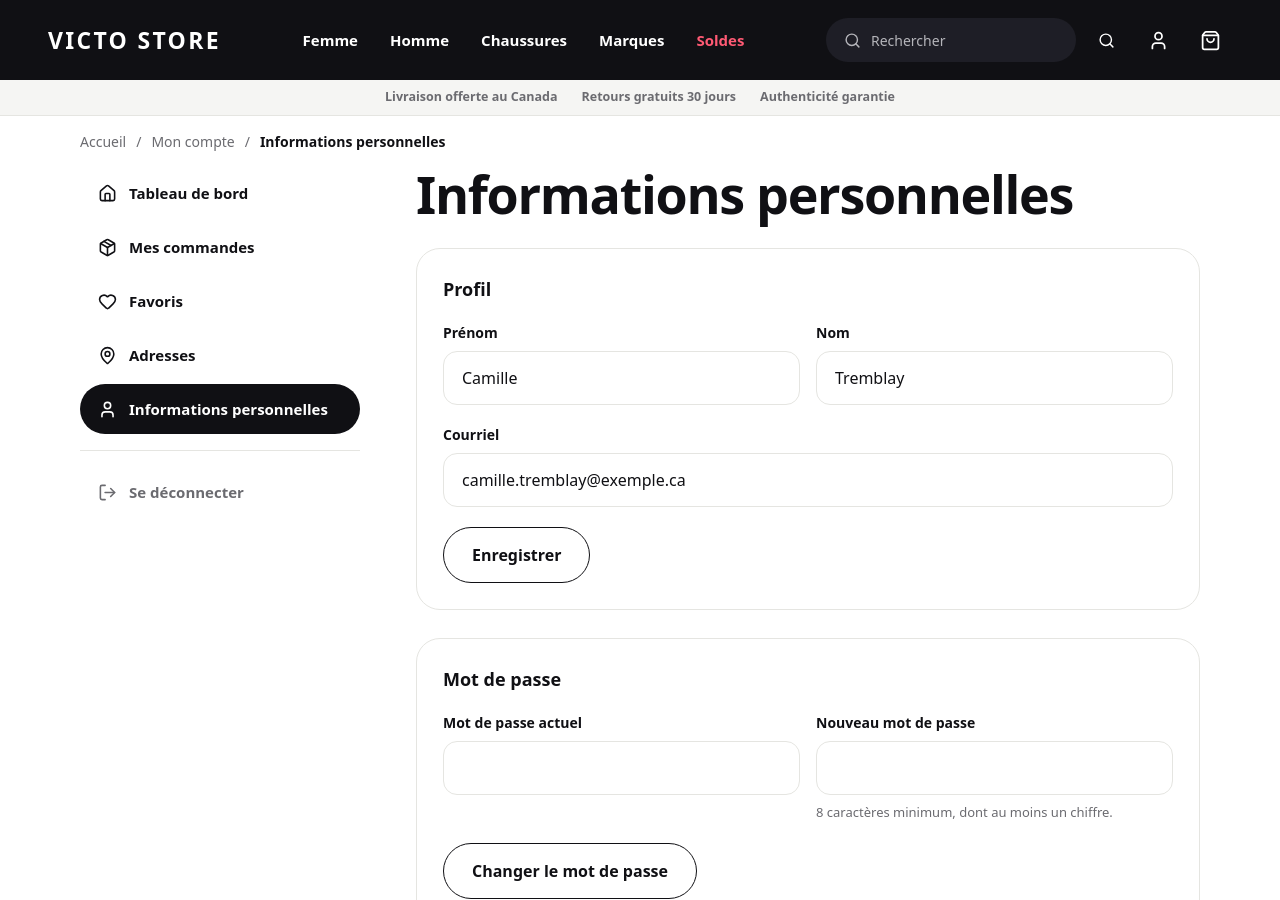
Test: informations personnelles — mot de passe › refuse un mot de passe actuel faux
Type "faux" into the password field labelled "Mot de passe actuel". click: [622, 768]
box: 443,741 -> 800,795
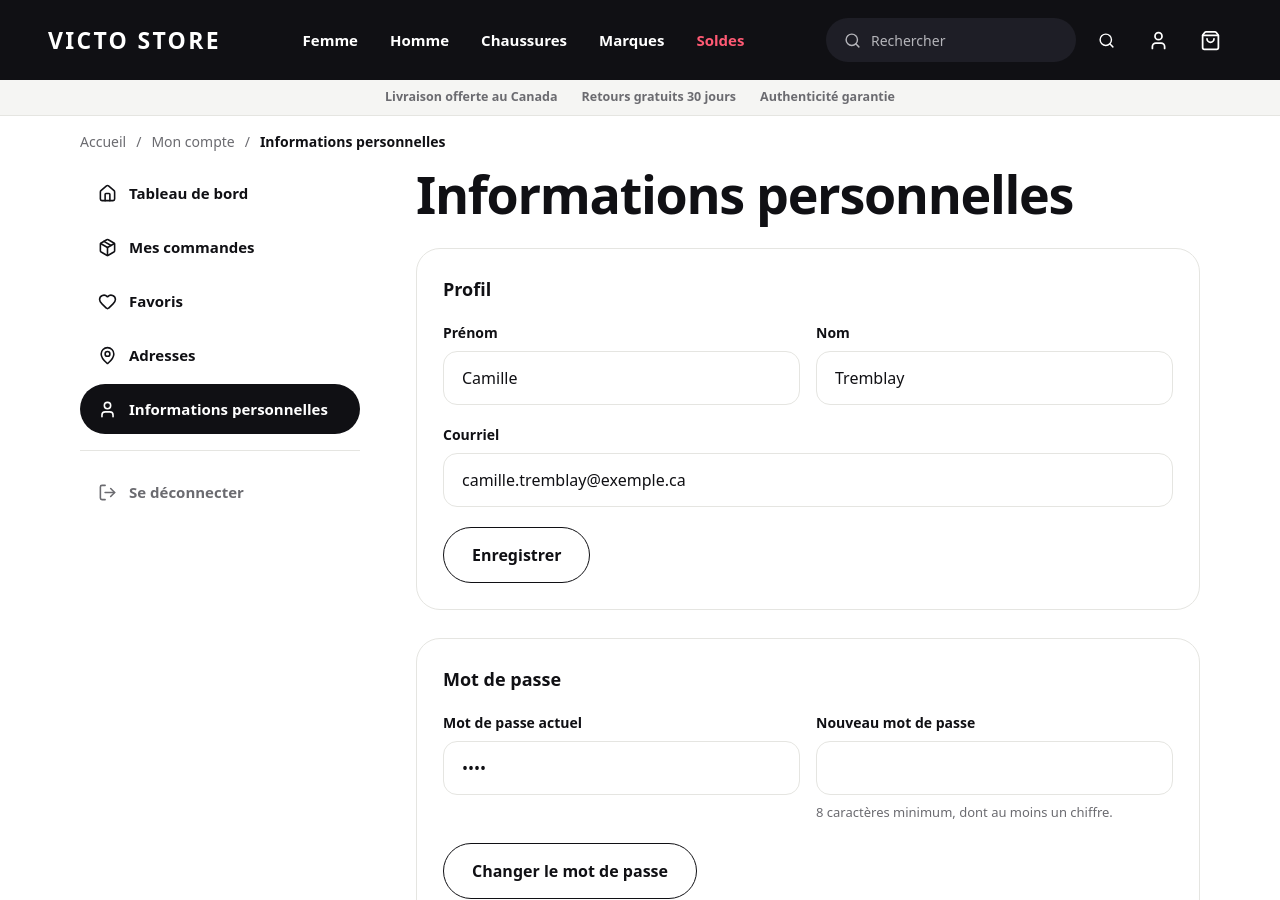
Type "nouveau2026" into the password field labelled "Nouveau mot de passe". click: [994, 768]
box: 816,741 -> 1173,795
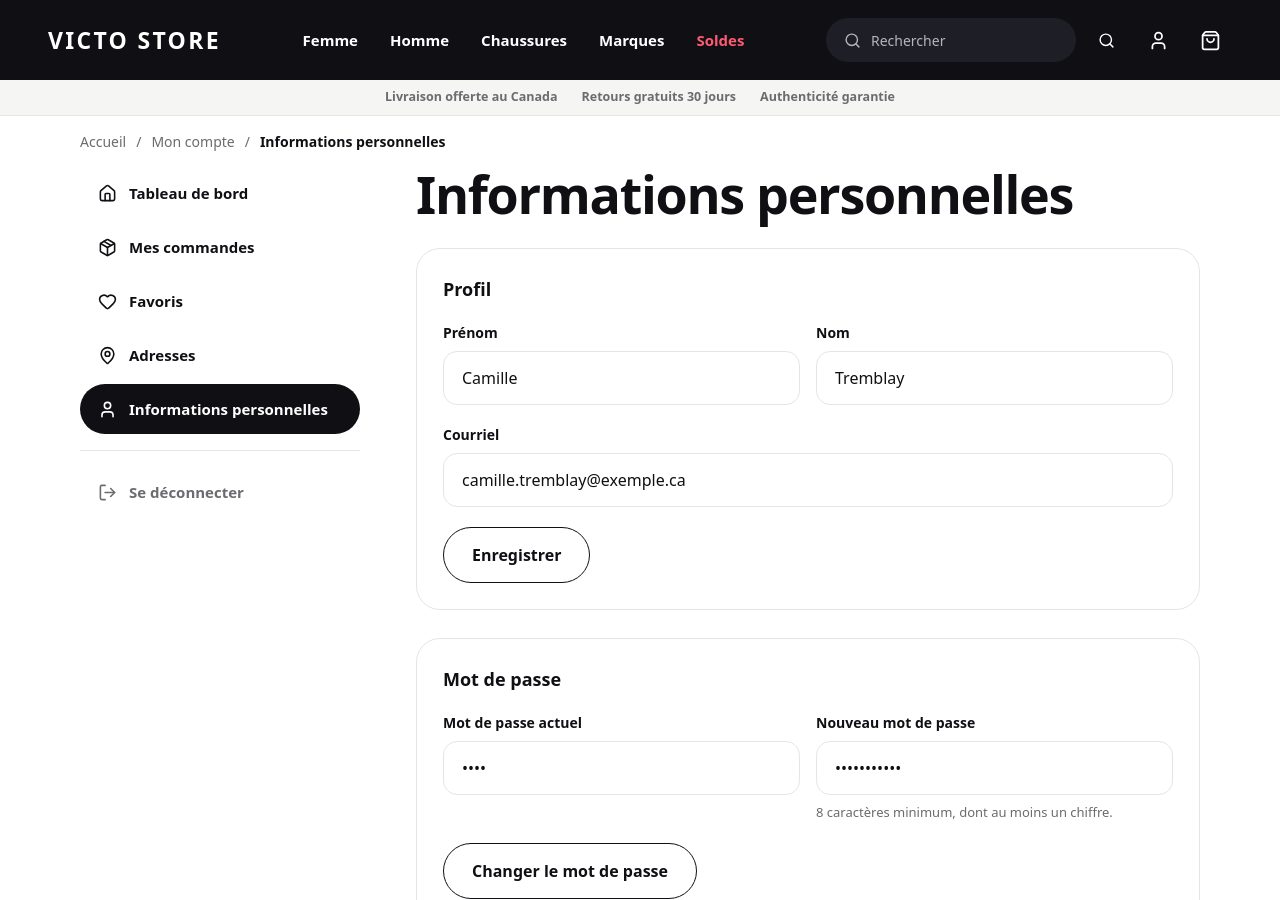
Click the button "Changer le mot de passe". click: [570, 870]
box: 443,842 -> 697,898
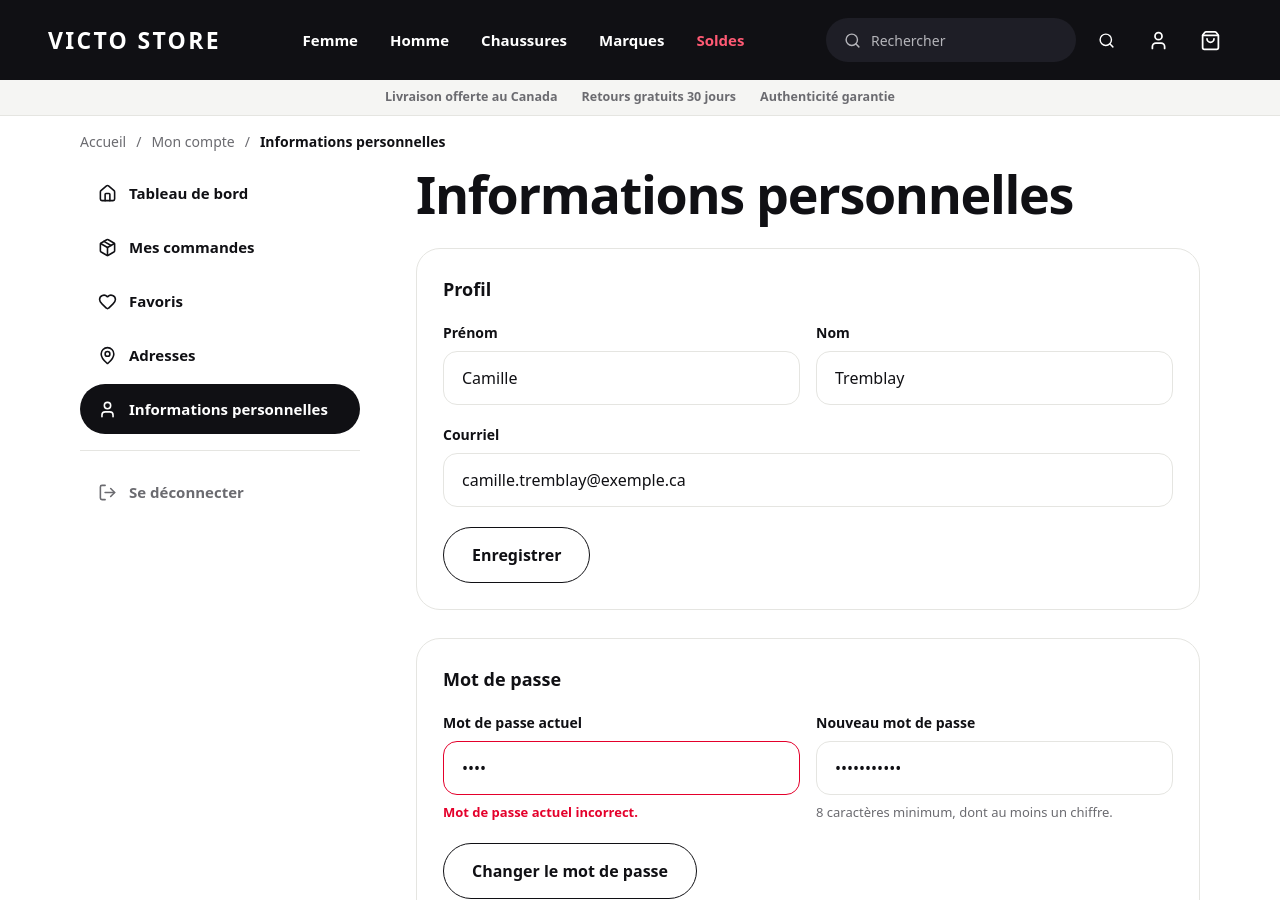
Check: the text "Mot de passe actuel incorrect." is shown, box 443,803 -> 638,821
